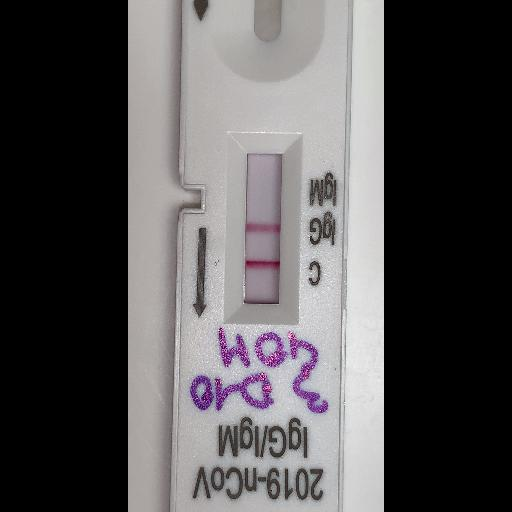Pos: (178, 0, 342, 511)
